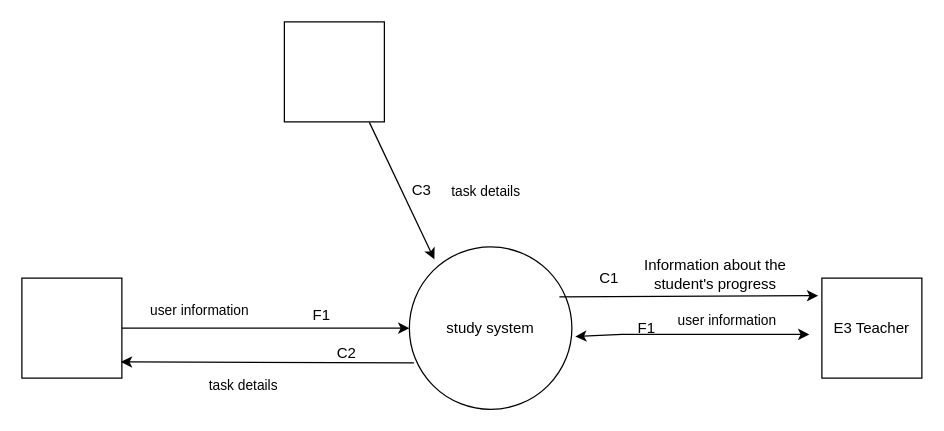
This 944x431 diagram has some shape labels left out. Here are the shapes that lost their labels. From the top down, the box of each, then its label:
(283, 21, 384, 122): E1 Admin
(21, 277, 122, 378): Student E2
